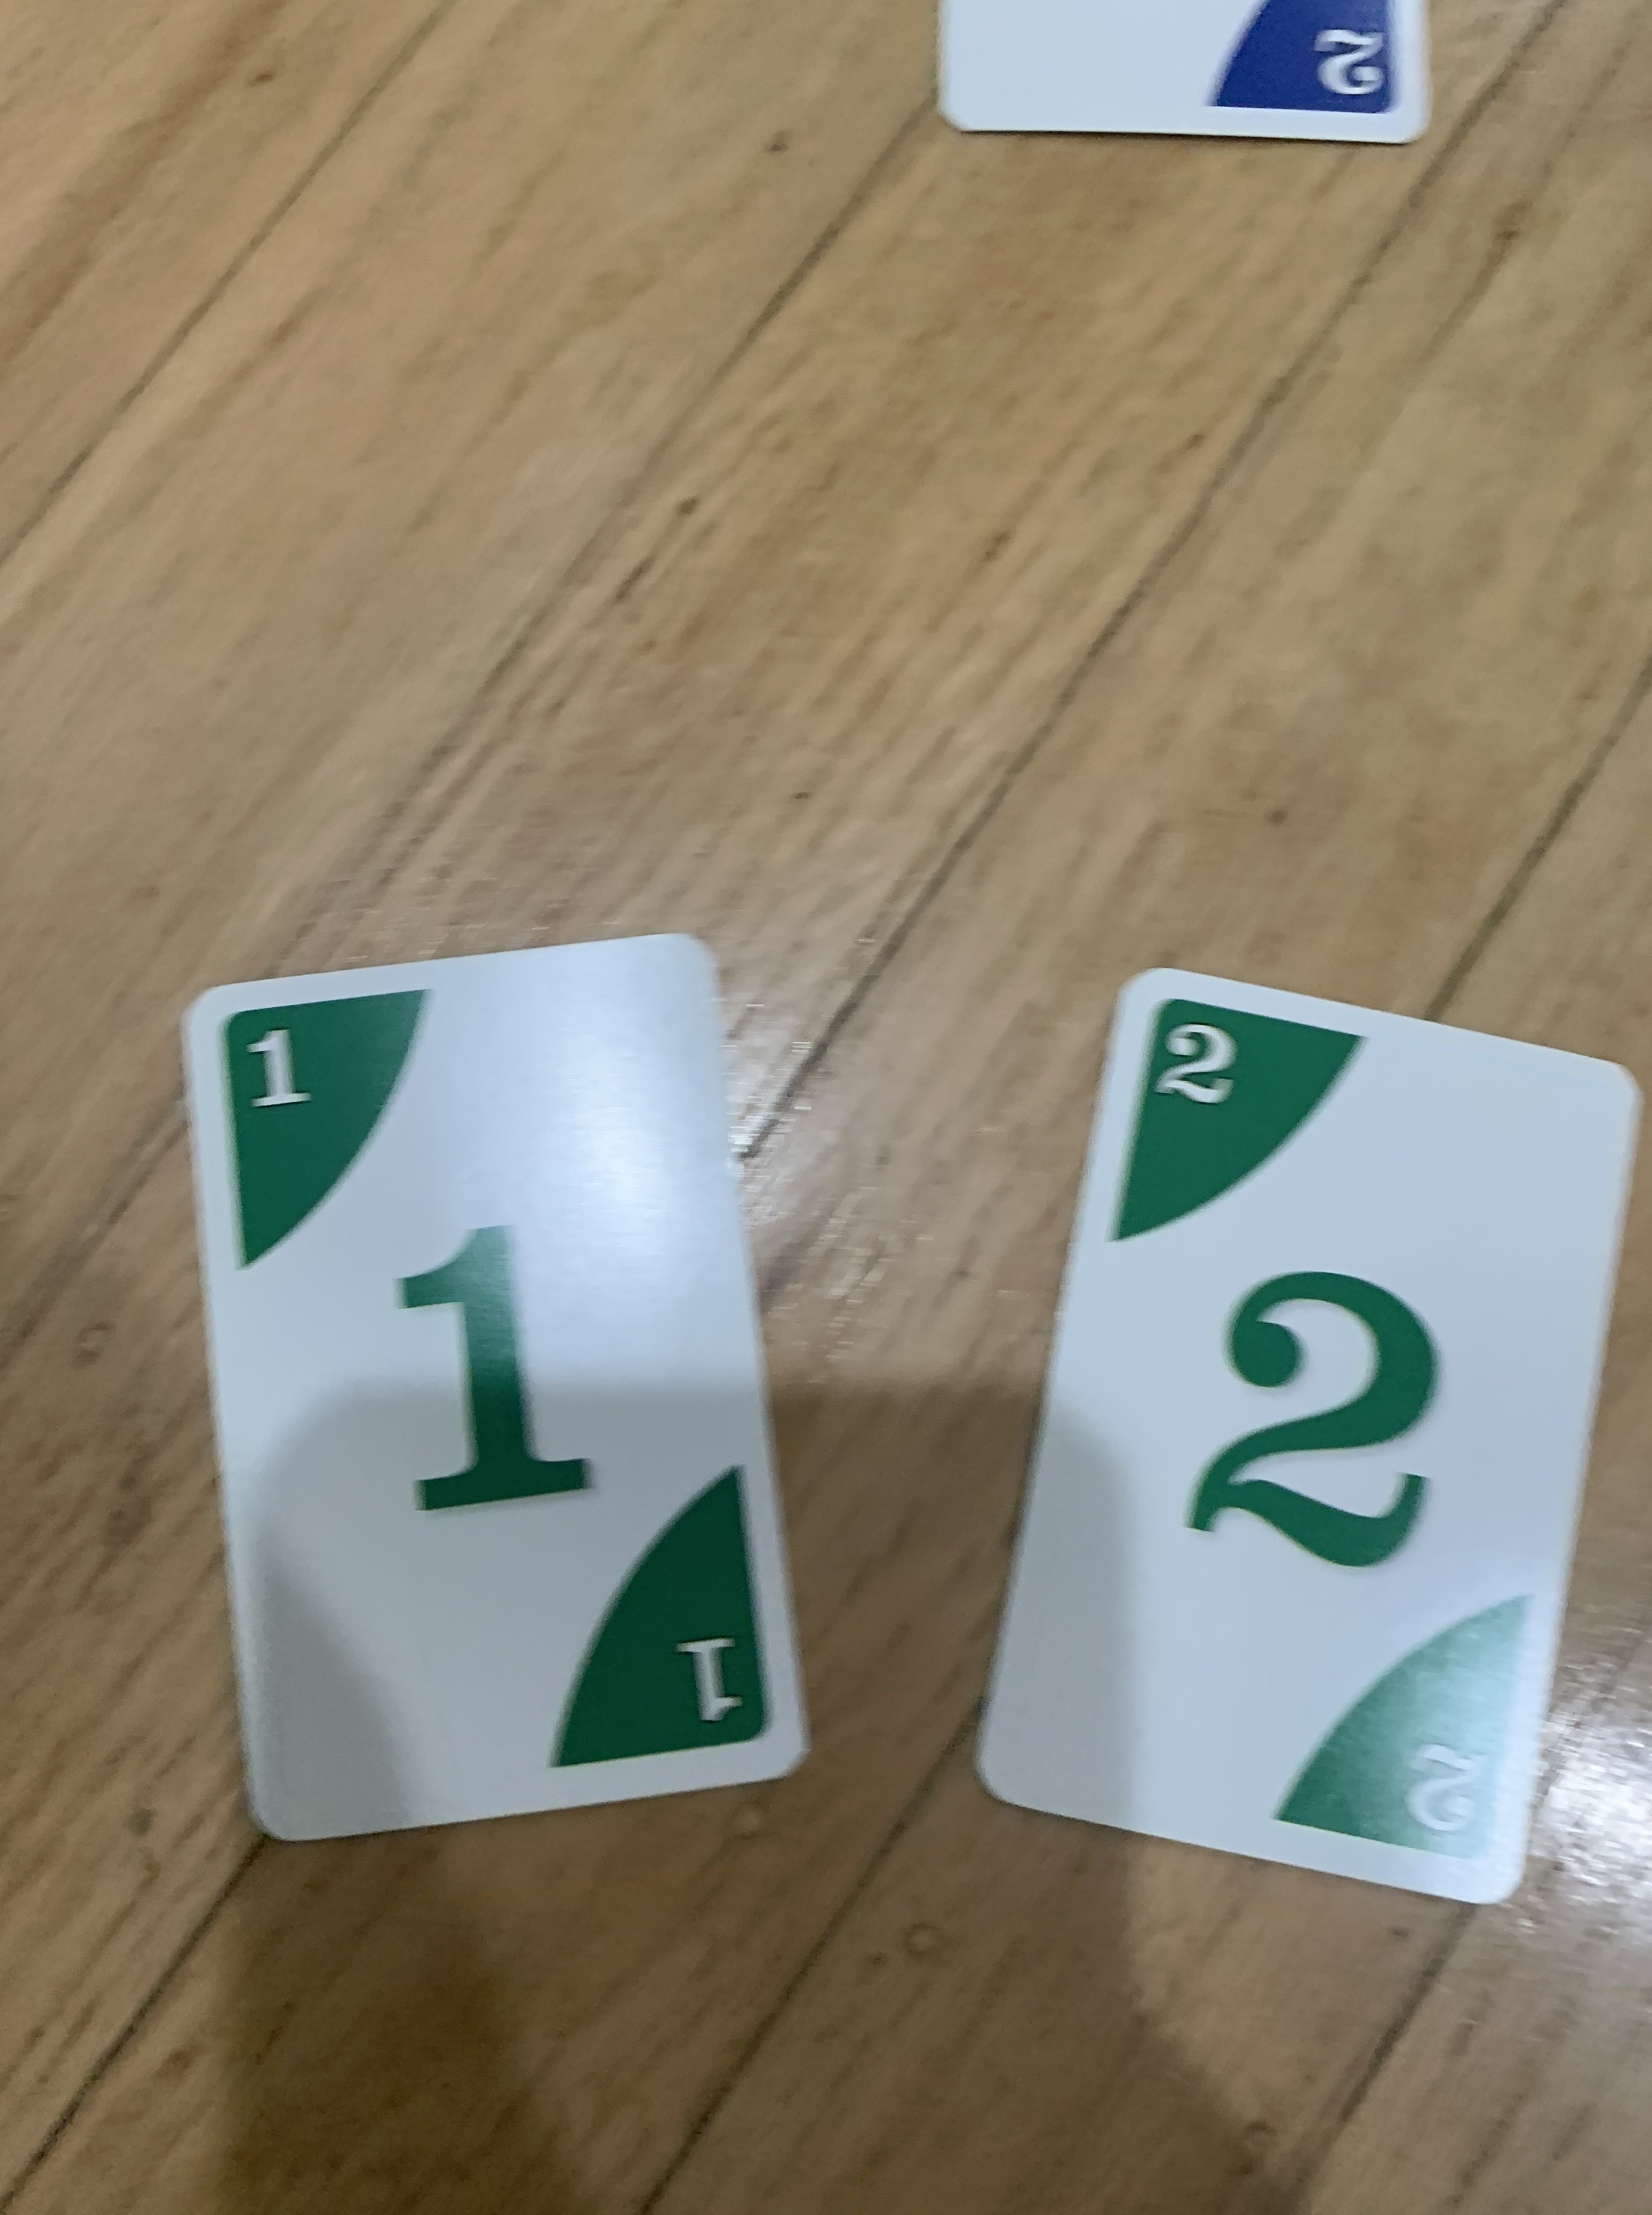one: (174, 927, 812, 1857)
two: (977, 958, 1638, 1922)
